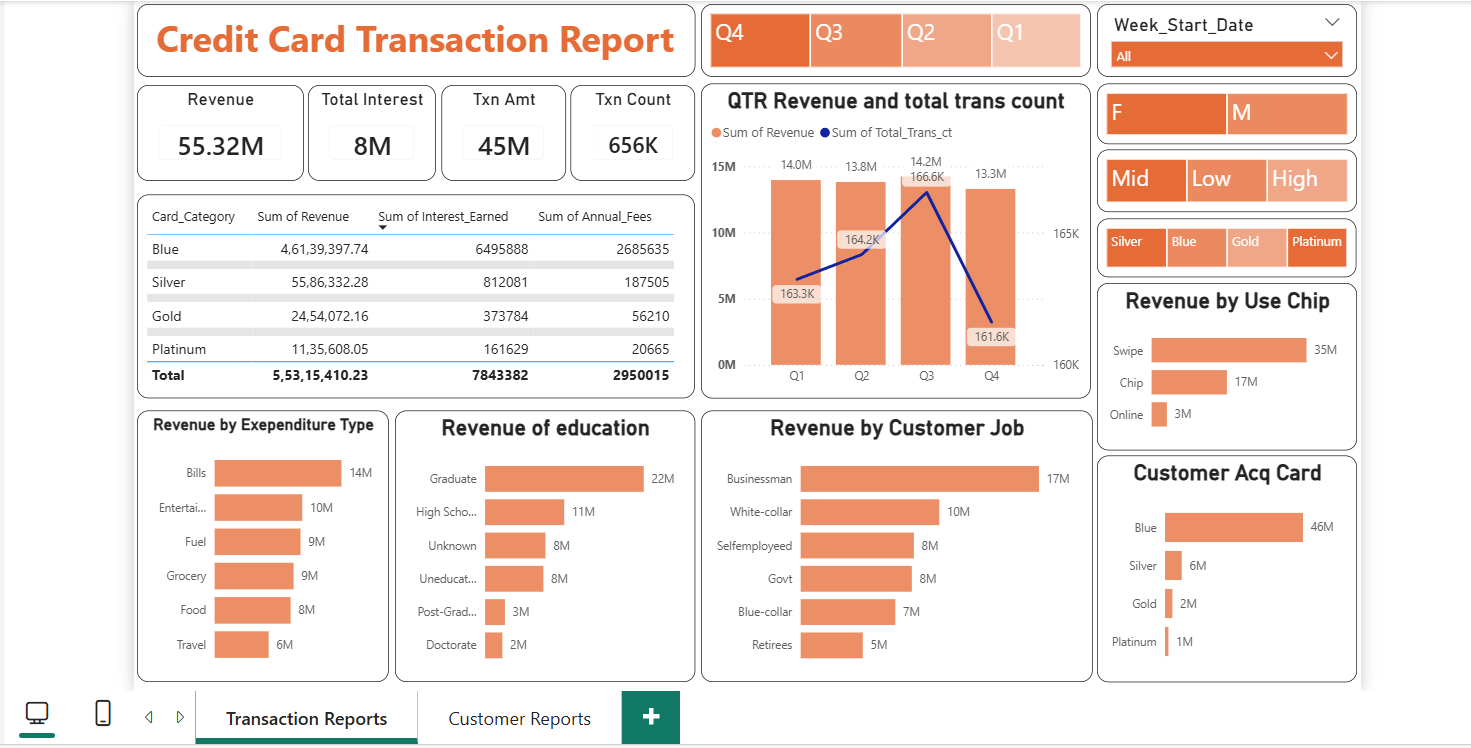

What the dashboard file says about the page in this screenshot:
{"tool":"powerbi","page":{"name":"Transaction Reports","canvas":[1280,720],"ordinal":0},"visuals":[{"type":"textbox","box":[3.2,3.2,582.5,76.2],"z":0},{"type":"lineStackedColumnComboChart","title":"QTR Revenue and total trans count","fields":{"Category":["credit_card.Qtr"],"Y":["Sum(credit_card.Revenue)"],"Y2":["Sum(credit_card.Total_Trans_ct)"]},"box":[592.1,85.7,406.3,328.6],"z":1000},{"type":"barChart","title":"Revenue by Exependiture Type","fields":{"Y":["Sum(credit_card.Revenue)"],"Category":["credit_card.Exp Type"]},"box":[3.1,427.3,263,283.3],"z":2000},{"type":"barChart","title":"Revenue of education","fields":{"Y":["Sum(credit_card.Revenue)"],"Category":["customer.Education_Level"]},"box":[272.3,427.3,313,283.3],"z":3000},{"type":"barChart","title":"Revenue by Customer Job","fields":{"Y":["Sum(credit_card.Revenue)"],"Category":["customer.Customer_Job"]},"box":[591.7,427.3,408.5,283.3],"z":4000},{"type":"barChart","title":"Customer Acq Card","fields":{"Y":["Sum(credit_card.Revenue)"],"Category":["credit_card.Card_Category"]},"box":[1004.8,474.6,271.4,236.5],"z":5000},{"type":"tableEx","title":"Sum of Revenue by exp_type","fields":{"Values":["credit_card.Card_Category","Sum(credit_card.Revenue)","Sum(credit_card.Interest_Earned)","Sum(credit_card.Annual_Fees)"]},"box":[3.1,201.9,582.3,212.9],"z":6000},{"type":"cardVisual","title":"Revenue","fields":{"Data":["Sum(credit_card.Revenue)"]},"box":[3.1,87.7,173.7,100.2],"z":7000},{"type":"cardVisual","title":"Txn Amt","fields":{"Data":["Sum(credit_card.Total_Trans_Amt)"]},"box":[320.9,87.7,129.9,100.2],"z":8000},{"type":"cardVisual","title":"Total Interest","fields":{"Data":["Sum(credit_card.Interest_Earned)"]},"box":[181.6,87.7,133,100.2],"z":9000},{"type":"cardVisual","title":"Txn Count","fields":{"Data":["Sum(credit_card.Total_Trans_ct)"]},"box":[455.5,87.7,129.9,100.2],"z":10000},{"type":"slicer","fields":{"Values":["credit_card.Week_Start_Date"]},"box":[1004.8,3.2,271.4,76.2],"z":11000},{"type":"treemap","fields":{"Group":["credit_card.Qtr"],"Values":["Avg(credit_card.Client_Num)"]},"box":[592.1,3.2,406.3,76.2],"z":12000},{"type":"treemap","fields":{"Values":["Avg(credit_card.Client_Num)"],"Group":["customer.Gender"]},"box":[1004.8,85.7,271.4,63.5],"z":13000},{"type":"treemap","fields":{"Values":["Avg(credit_card.Client_Num)"],"Group":["credit_card.Card_Category"]},"box":[1004.9,227,270.8,61],"z":14000},{"type":"treemap","fields":{"Values":["Avg(credit_card.Client_Num)"],"Group":["customer.IncomeGroup"]},"box":[1004.8,155.6,271.4,65.1],"z":15000},{"type":"barChart","title":"Revenue by Use Chip","fields":{"Y":["Sum(credit_card.Revenue)"],"Category":["credit_card.Use Chip"]},"box":[1004.8,293.7,271.4,174.6],"z":16000},{"type":"actionButton","box":[0,0,100,40],"z":17000}]}

Visuals, with their boxes on the page's 1280x720 design canvas (x1, y1, x2, y2). These are canvas units, not pixel positions in the 1471x748 screenshot, which may show the page scaled, cropped or inside an application window:
textbox: <box>3,3,586,79</box>
"QTR Revenue and total trans count" lineStackedColumnComboChart: <box>592,86,998,414</box>
"Revenue by Exependiture Type" barChart: <box>3,427,266,711</box>
"Revenue of education" barChart: <box>272,427,585,711</box>
"Revenue by Customer Job" barChart: <box>592,427,1000,711</box>
"Customer Acq Card" barChart: <box>1005,475,1276,711</box>
"Sum of Revenue by exp_type" tableEx: <box>3,202,585,415</box>
"Revenue" cardVisual: <box>3,88,177,188</box>
"Txn Amt" cardVisual: <box>321,88,451,188</box>
"Total Interest" cardVisual: <box>182,88,315,188</box>
"Txn Count" cardVisual: <box>456,88,585,188</box>
slicer - credit_card.Week_Start_Date: <box>1005,3,1276,79</box>
treemap - credit_card.Qtr x Avg(credit_card.Client_Num): <box>592,3,998,79</box>
treemap - Avg(credit_card.Client_Num) x customer.Gender: <box>1005,86,1276,149</box>
treemap - Avg(credit_card.Client_Num) x credit_card.Card_Category: <box>1005,227,1276,288</box>
treemap - Avg(credit_card.Client_Num) x customer.IncomeGroup: <box>1005,156,1276,221</box>
"Revenue by Use Chip" barChart: <box>1005,294,1276,468</box>
actionButton: <box>0,0,100,40</box>
